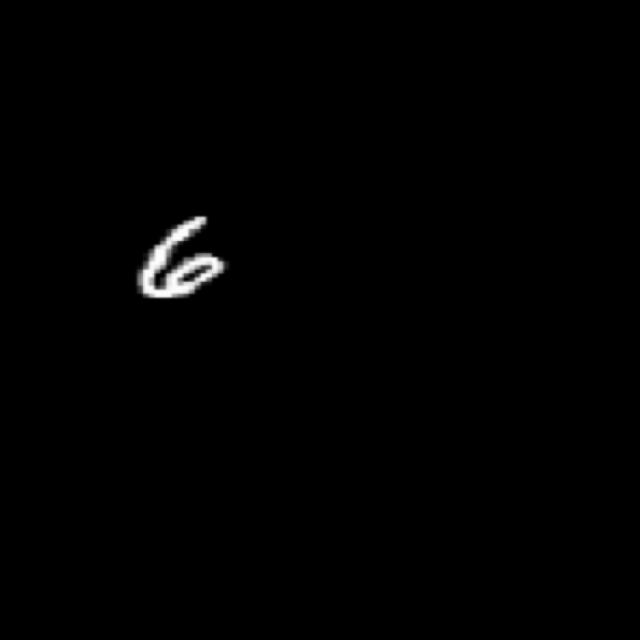six -6-: (136, 213, 230, 306)
